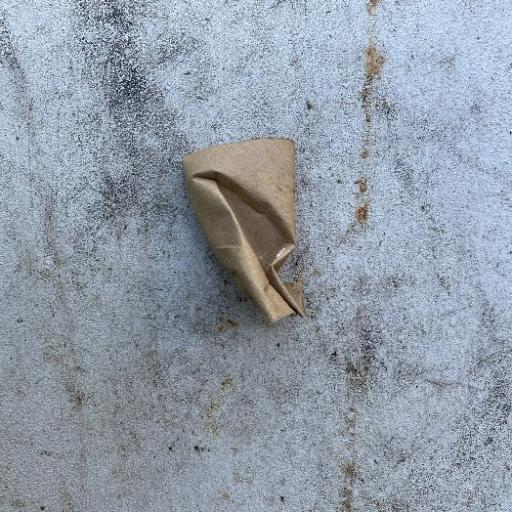Cardboard: (179, 136, 307, 324)
